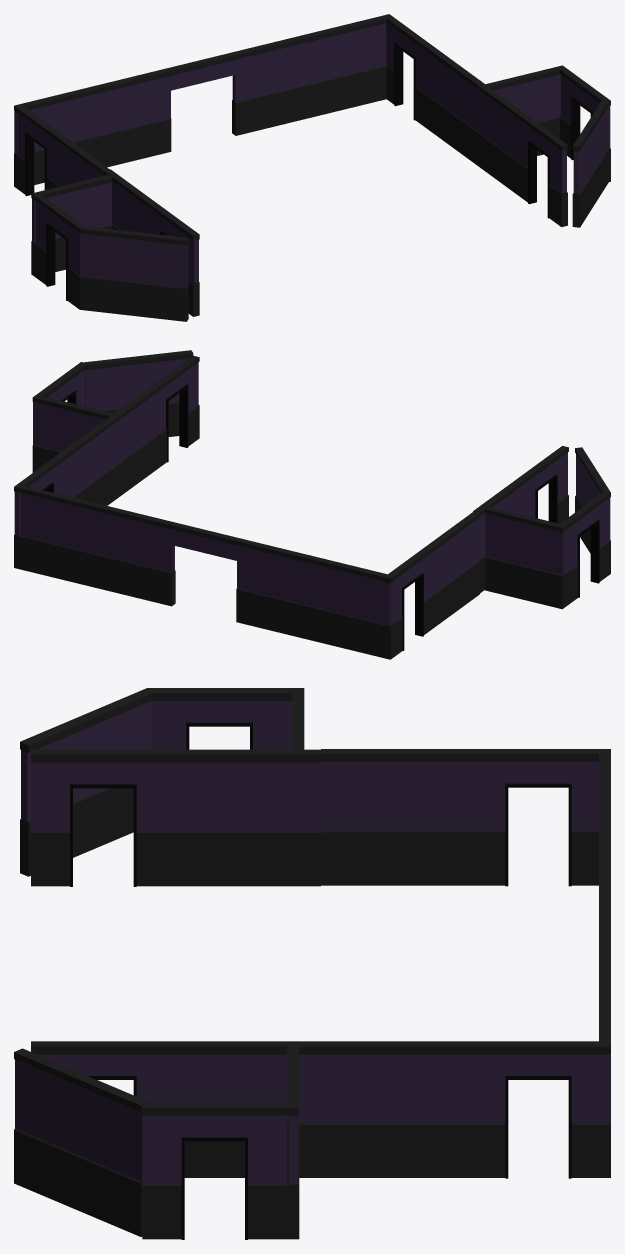
File: Living Room.fbx
3 views of the same model, one above another, from view 1: azimuth 30°, elevation 25°; view 2: azimuth 150°, elevation 25°; view 3: azimuth 270°, elevation 25° (orthographic). The views are drawn at different scales.
Parts seen in each view (by area): view 1: Classic_Wall_snaps001 (50), Classic_Wall_snaps001 (60), Classic_Wall_snaps001 (61), Classic_Wall_snaps001 (46), Classic_Wall_snaps001 (29), Classic_Wall_snaps001 (31), Classic_Wall_snaps001 (47), Classic_WallDoorFrame_02_snaps001 (8), Classic_WallDoorFrame_02_snaps001 (10), Classic_Wall_snaps001 (28), Classic_Wall_snaps001 (51), Classic_WallDoorFrame_02_snaps001 (9) (+7 smaller); view 2: Classic_Wall_snaps001 (51), Classic_Wall_snaps001 (60), Classic_Wall_snaps001 (46), Classic_Wall_snaps001 (47), Classic_Wall_snaps001 (61), Classic_Wall_snaps001 (28), Classic_Wall_snaps001 (62), Classic_Wall_snaps001 (31), Classic_WallDoorFrame_02_snaps001 (12), Classic_WallDoorFrame_02_snaps001 (8), Classic_WallDoorFrame_02_snaps001 (10), Classic_Wall_snaps001 (30) (+7 smaller); view 3: Classic_Wall_snaps001 (52), Classic_Wall_snaps001 (29), Classic_Wall_snaps001 (62), Classic_Wall_snaps001 (28), Classic_WallDoorFrame_02_snaps001 (3), Classic_WallDoorFrame_02_snaps001 (11), Classic_WallDoorFrame_02_snaps001 (9), Classic_WallDoorFrame_02_snaps001 (12), Classic_Wall_snaps001 (31), Classic_Wall_snaps001 (50), Classic_WallDoorFrame_02_snaps001 (10), Classic_WallDoorFrame_02_snaps001 (8) (+5 smaller).
Part boxes in pixels (x1,y1,x2,y2): Classic_Wall_snaps001 (50): (79,226,188,321); Classic_Wall_snaps001 (60): (306,15,386,117); Classic_Wall_snaps001 (61): (239,34,309,134); Classic_Wall_snaps001 (46): (98,70,164,167); Classic_Wall_snaps001 (29): (427,47,478,161); Classic_Wall_snaps001 (31): (472,79,522,194); Classic_Wall_snaps001 (47): (14,85,101,184); Classic_WallDoorFrame_02_snaps001 (8): (517,112,567,227); Classic_WallDoorFrame_02_snaps001 (10): (35,194,84,309); Classic_Wall_snaps001 (28): (572,101,608,227); Classic_Wall_snaps001 (51): (31,174,112,276); Classic_WallDoorFrame_02_snaps001 (9): (383,14,433,128); Classic_Wall_snaps001 (51): (485,506,566,609); Classic_Wall_snaps001 (60): (20,485,101,588); Classic_Wall_snaps001 (46): (243,540,320,641); Classic_Wall_snaps001 (47): (306,555,393,659); Classic_Wall_snaps001 (61): (98,504,168,604); Classic_Wall_snaps001 (28): (84,350,193,436); Classic_Wall_snaps001 (62): (429,511,479,626); Classic_Wall_snaps001 (31): (104,388,154,503); Classic_WallDoorFrame_02_snaps001 (12): (384,544,435,659); Classic_WallDoorFrame_02_snaps001 (8): (148,355,199,470); Classic_WallDoorFrame_02_snaps001 (10): (560,492,610,605); Classic_Wall_snaps001 (30): (32,394,113,472); Classic_Wall_snaps001 (52): (176,749,320,886); Classic_Wall_snaps001 (29): (321,1041,465,1177); Classic_Wall_snaps001 (62): (321,749,465,885); Classic_Wall_snaps001 (28): (14,1048,149,1236); Classic_WallDoorFrame_02_snaps001 (3): (142,1102,287,1239); Classic_WallDoorFrame_02_snaps001 (11): (31,749,175,886); Classic_WallDoorFrame_02_snaps001 (9): (466,1041,610,1178); Classic_WallDoorFrame_02_snaps001 (12): (466,749,598,886); Classic_Wall_snaps001 (31): (176,1041,320,1177); Classic_Wall_snaps001 (50): (20,688,155,876); Classic_WallDoorFrame_02_snaps001 (10): (147,688,292,749); Classic_WallDoorFrame_02_snaps001 (8): (31,1041,175,1102).
Bounding box in the file's own units: 20.61 × 3 × 12.35.
